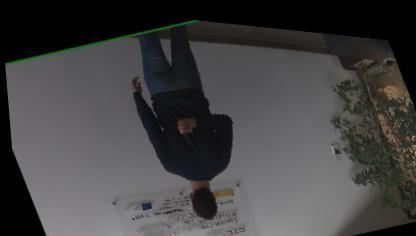knife: (171, 108, 194, 146)
